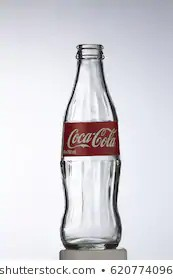coke-glass-bottle: (57, 44, 125, 249)
